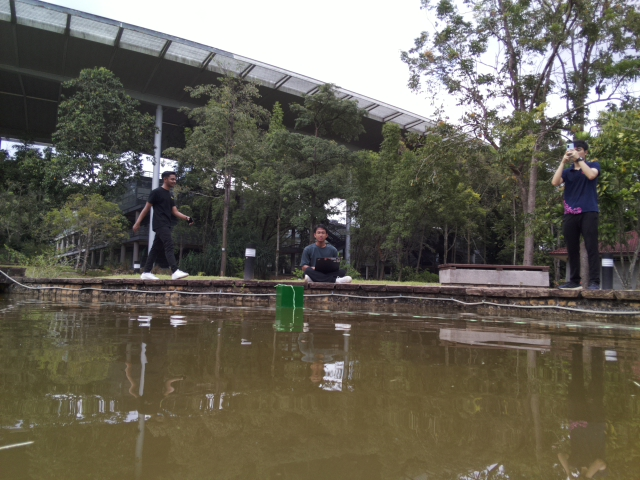obstacle: (275, 284, 304, 311)
